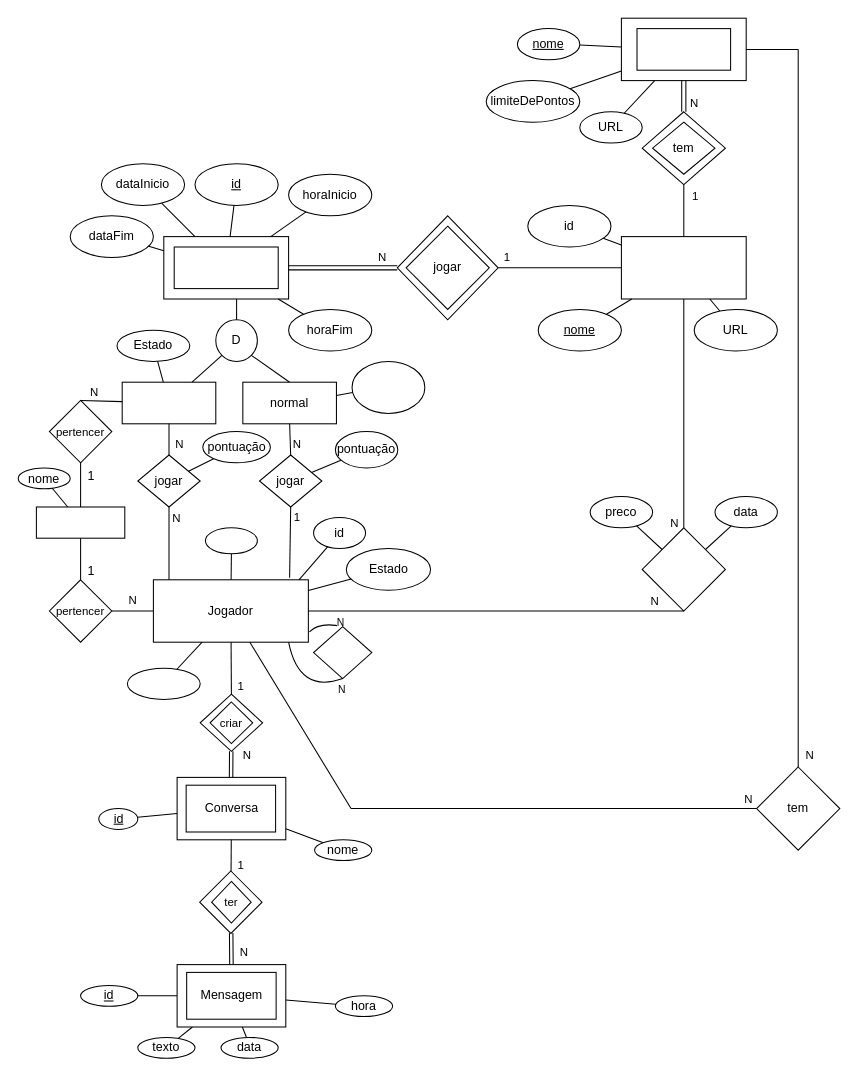
Some shapes in this 858 by 1076 pixel diagram are drawn without their labels. Each missing label, with the centre of its shape:
"adicionar" goes at point 342,652.
"comprar" goes at point 683,569.
"Crachá" goes at point 683,49.
"dificuldade" goes at point 388,386.
"email" goes at point 230,540.
"Jogo" goes at point 683,267.
"multi-jogador" goes at point 168,402.
"Partida" goes at point 225,267.
"Região" goes at point 80,522.
"username" goes at point 163,683.
